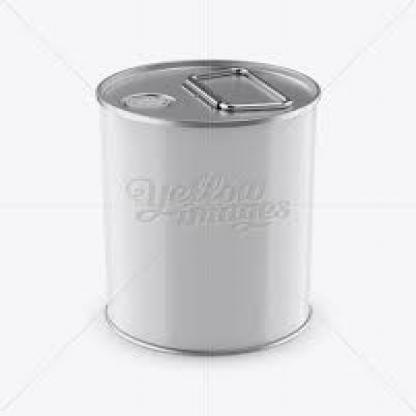Compsot: (93, 58, 319, 355)
